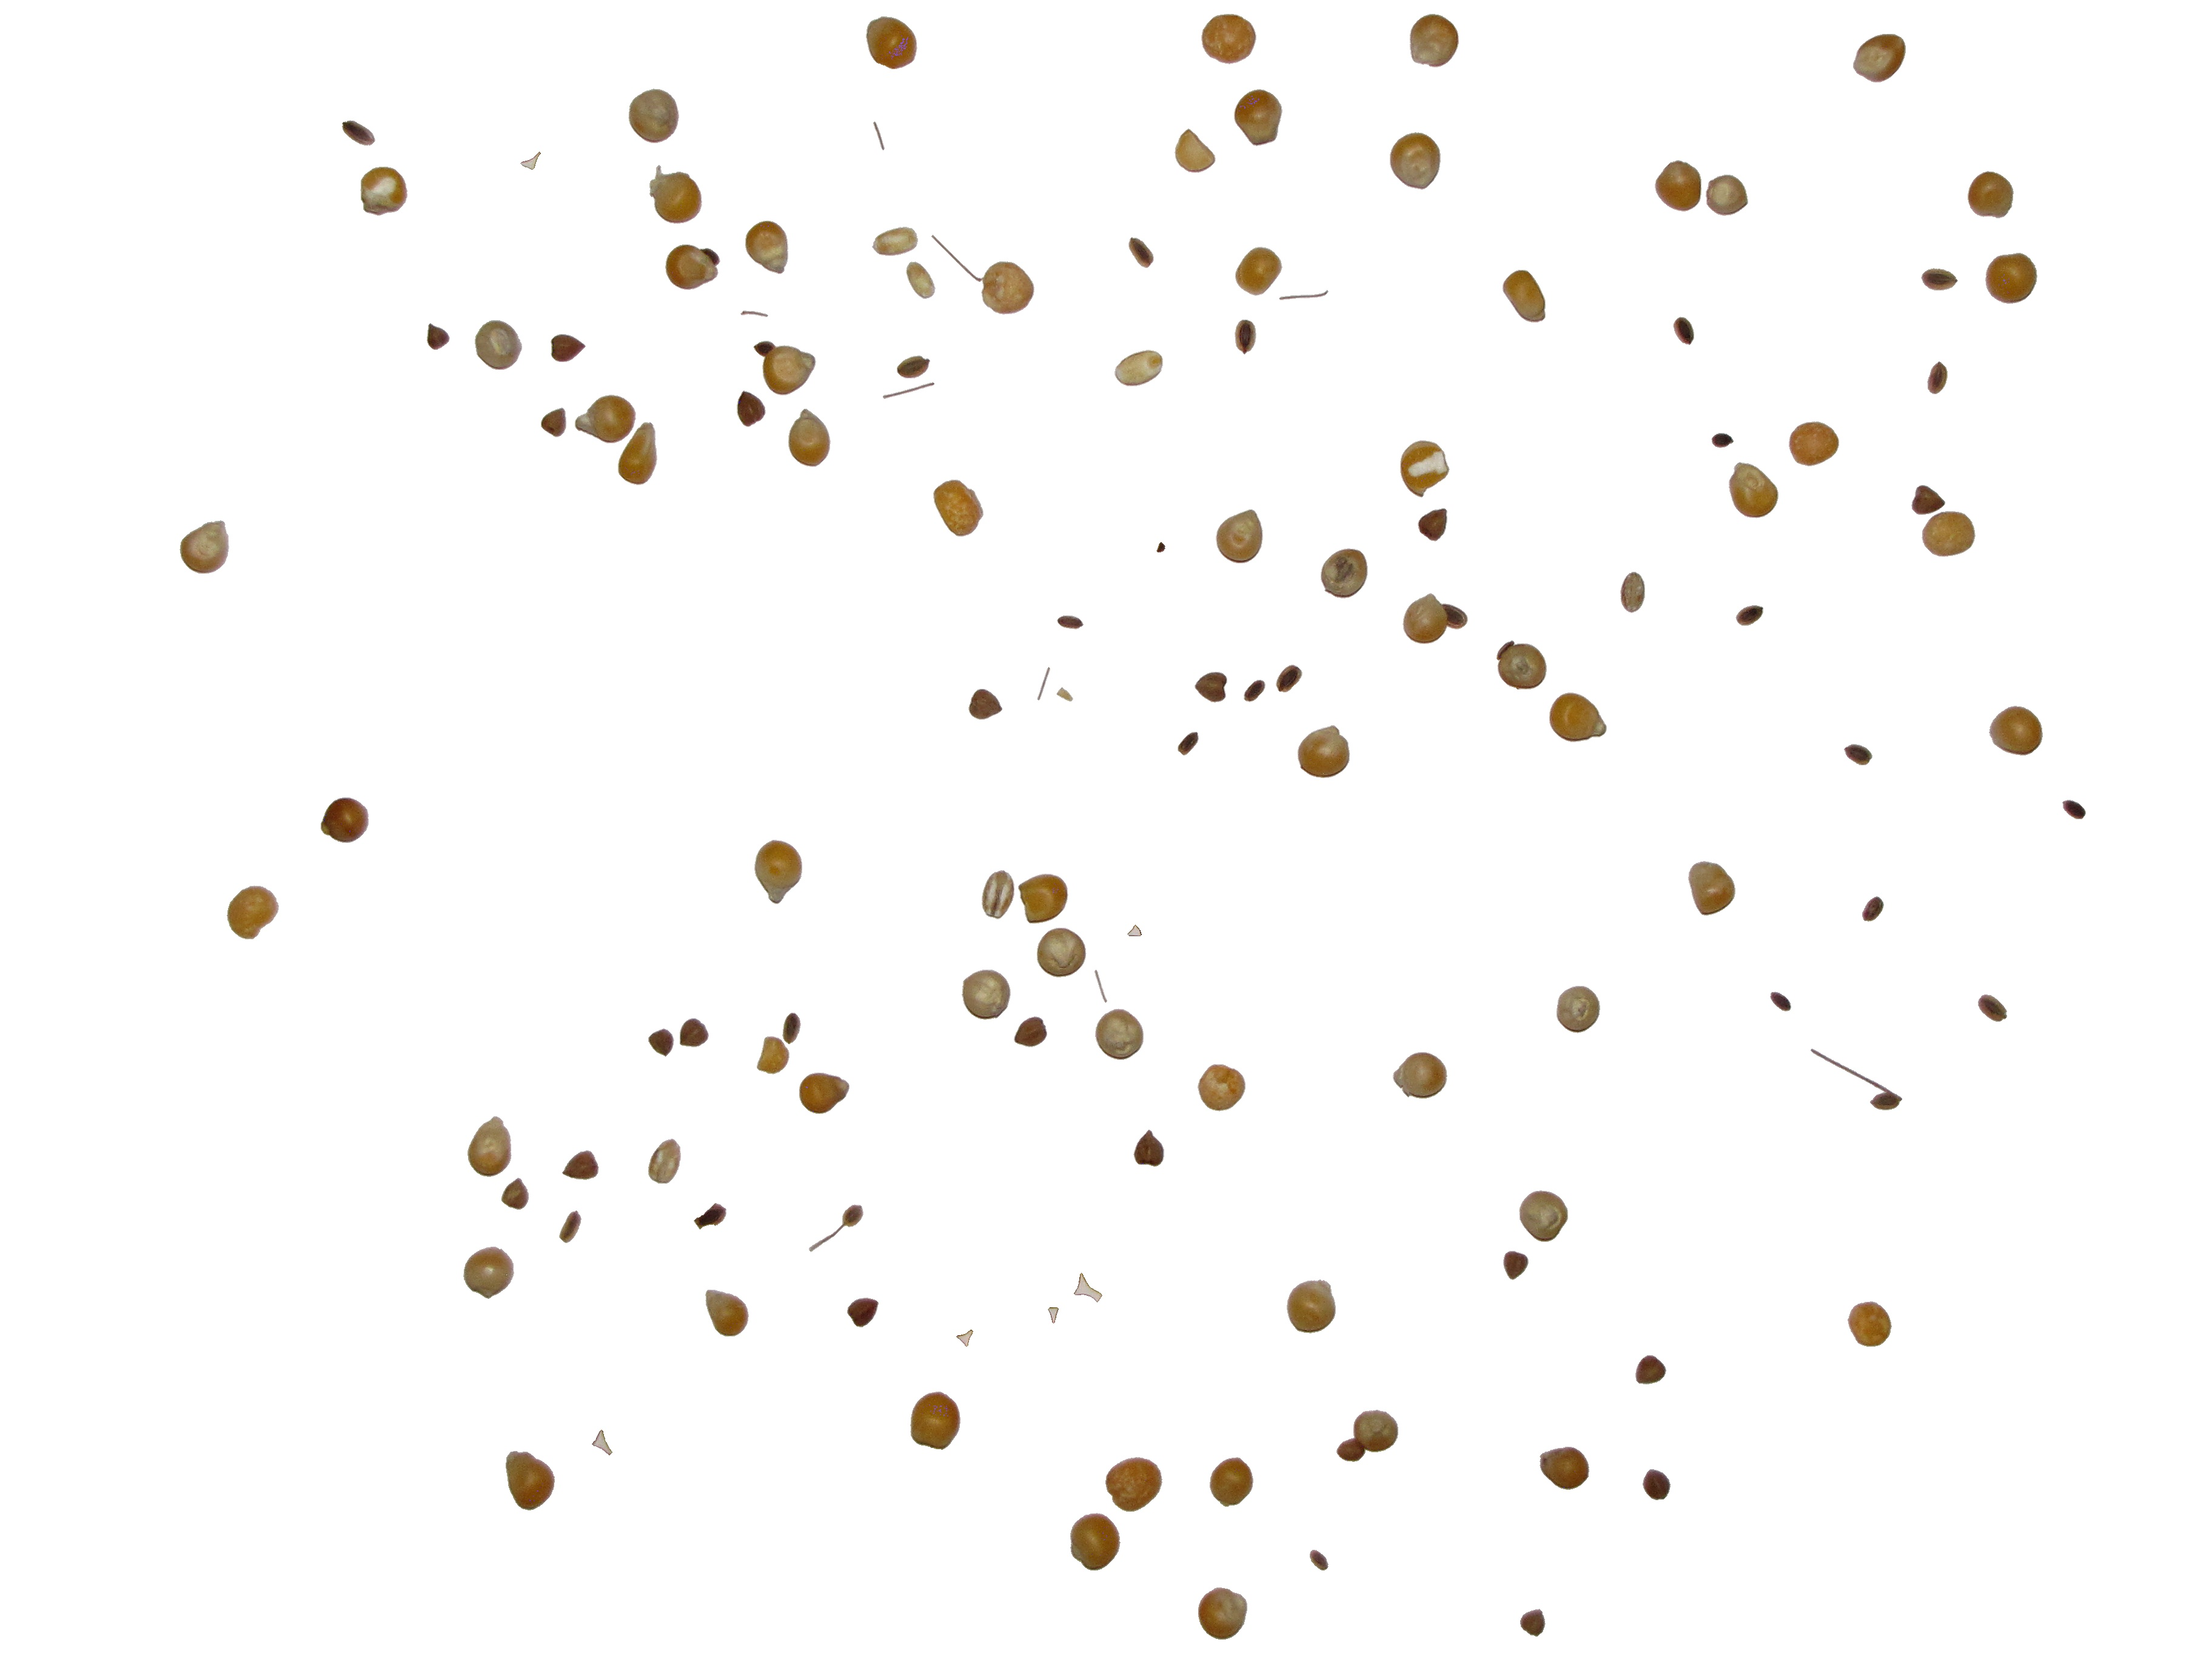buckwheat: (563, 1150, 599, 1180), (1134, 1131, 1163, 1166), (968, 690, 1001, 720), (1014, 1018, 1047, 1047), (1418, 509, 1447, 540), (1195, 673, 1226, 702), (550, 335, 585, 361), (502, 1178, 529, 1209), (1912, 486, 1944, 514), (1642, 1469, 1670, 1499), (848, 1298, 878, 1326), (1635, 1356, 1665, 1384), (681, 1019, 709, 1047), (695, 1204, 726, 1229), (343, 120, 374, 145), (1921, 268, 1958, 289), (1979, 995, 2006, 1021), (1129, 237, 1153, 267), (542, 408, 566, 437), (1235, 321, 1256, 354), (650, 1028, 674, 1056), (1521, 1608, 1545, 1636), (1503, 1251, 1527, 1279), (1277, 666, 1301, 692), (782, 1012, 801, 1044), (1928, 362, 1947, 394), (1844, 744, 1872, 765), (427, 324, 449, 349), (1674, 317, 1693, 345), (1862, 897, 1883, 922), (1737, 606, 1763, 626), (1177, 732, 1198, 755), (1244, 680, 1264, 702), (2062, 800, 2085, 819), (1771, 992, 1791, 1011), (1310, 1551, 1327, 1570), (1057, 617, 1083, 629), (1712, 434, 1733, 448)
dill: (1811, 1049, 1902, 1110), (810, 1204, 862, 1251), (932, 235, 982, 281), (883, 383, 934, 399), (1280, 291, 1327, 300), (1038, 667, 1050, 701), (1096, 971, 1106, 1002), (874, 122, 885, 150), (740, 310, 768, 317), (1057, 688, 1073, 701)
mais: (754, 342, 815, 396), (1106, 1457, 1162, 1511), (650, 166, 702, 223), (754, 840, 801, 903), (1390, 132, 1440, 190), (575, 396, 636, 443), (981, 261, 1035, 314), (1071, 1513, 1120, 1570), (911, 1392, 960, 1450), (1298, 725, 1350, 777), (228, 885, 279, 939), (629, 89, 679, 143), (1202, 14, 1256, 64), (934, 481, 982, 537), (1400, 441, 1449, 497), (1730, 462, 1778, 518), (1550, 694, 1606, 742), (1235, 89, 1282, 146), (507, 1452, 554, 1509), (1989, 706, 2043, 755), (463, 1248, 514, 1298), (1986, 253, 2036, 303), (866, 17, 916, 68), (1198, 1588, 1247, 1640), (179, 521, 228, 573), (1287, 1281, 1336, 1333), (469, 1117, 510, 1176), (1519, 1190, 1568, 1241), (1853, 35, 1905, 82), (1216, 511, 1263, 563), (1411, 14, 1458, 66), (1393, 1053, 1447, 1098), (1689, 861, 1735, 915), (789, 410, 831, 467), (1019, 875, 1068, 924), (1038, 929, 1087, 978), (961, 971, 1010, 1019), (1655, 160, 1702, 211), (1096, 1009, 1143, 1060), (665, 246, 719, 289), (618, 423, 657, 484), (361, 167, 408, 216), (1498, 641, 1547, 688), (1923, 512, 1975, 556), (475, 321, 521, 369), (1322, 549, 1367, 598), (1789, 422, 1839, 465), (1503, 270, 1545, 322), (745, 221, 787, 274), (1237, 247, 1282, 295), (1968, 171, 2013, 218), (1198, 1065, 1245, 1110), (705, 1290, 749, 1337), (1211, 1457, 1252, 1506), (1540, 1448, 1588, 1490), (322, 798, 368, 842), (1557, 986, 1599, 1033), (799, 1073, 848, 1114), (1848, 1302, 1892, 1345), (1176, 129, 1216, 173), (1404, 591, 1437, 643), (1115, 350, 1162, 385), (1707, 176, 1747, 216), (1357, 1410, 1397, 1450), (737, 390, 765, 427)
other: (984, 871, 1015, 918), (650, 1140, 681, 1183), (873, 227, 918, 254), (758, 1037, 789, 1073), (906, 261, 935, 298), (1622, 572, 1644, 612), (1075, 1274, 1103, 1302), (897, 356, 930, 378), (559, 1211, 582, 1243), (592, 1431, 611, 1455), (521, 152, 540, 169), (956, 1330, 972, 1345), (1129, 925, 1141, 936), (1049, 1309, 1057, 1323), (1157, 542, 1165, 552)
